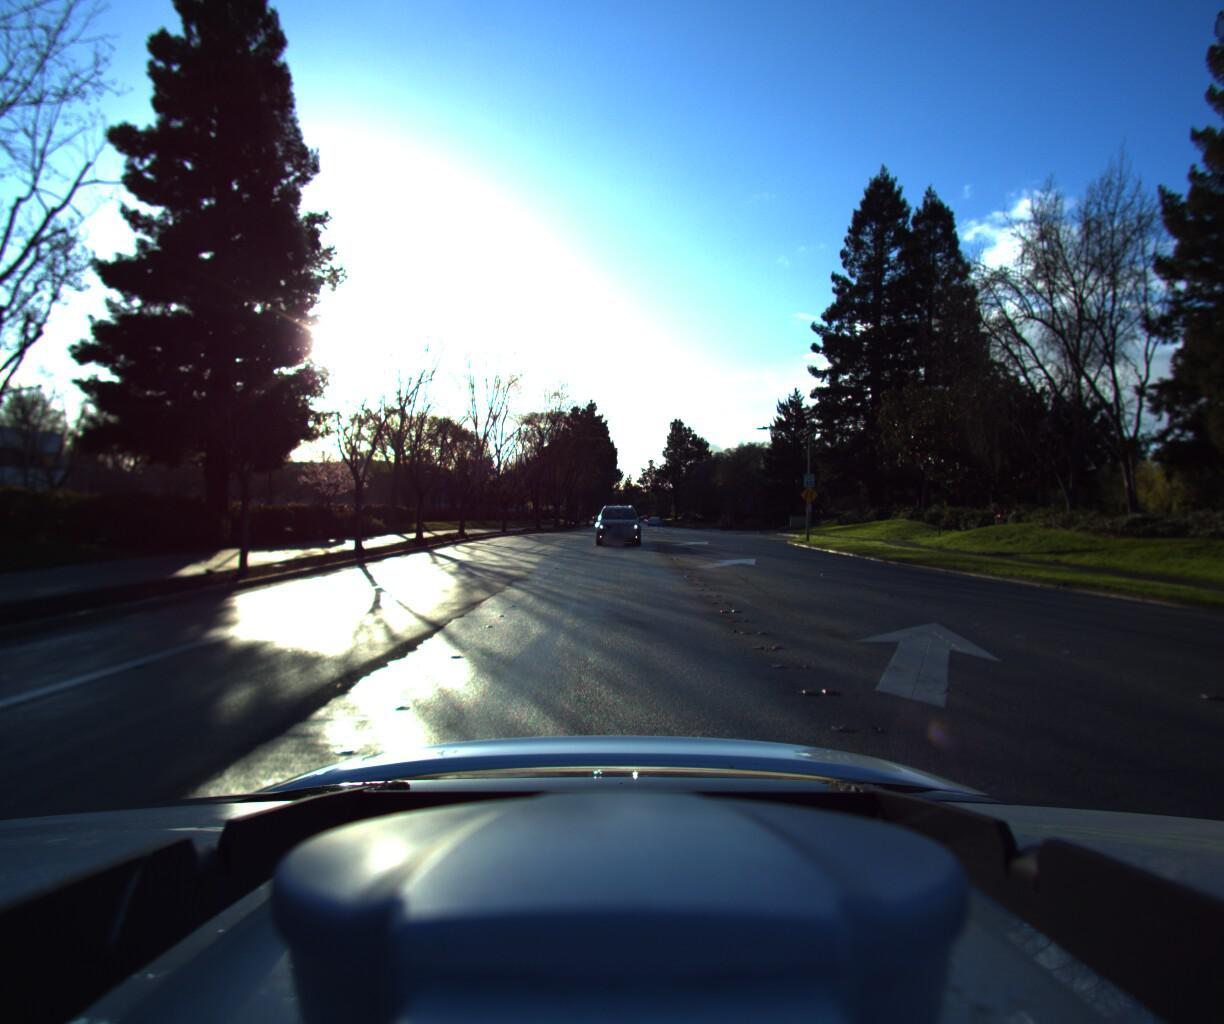car: (592, 500, 638, 544)
